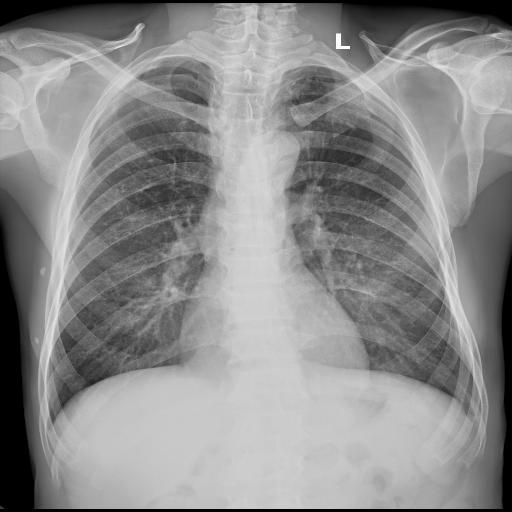ILD: (22, 55, 116, 265), (304, 104, 396, 282)
Other lesion: (272, 62, 312, 88)
Pulmonary fibrosis: (276, 60, 310, 90)
